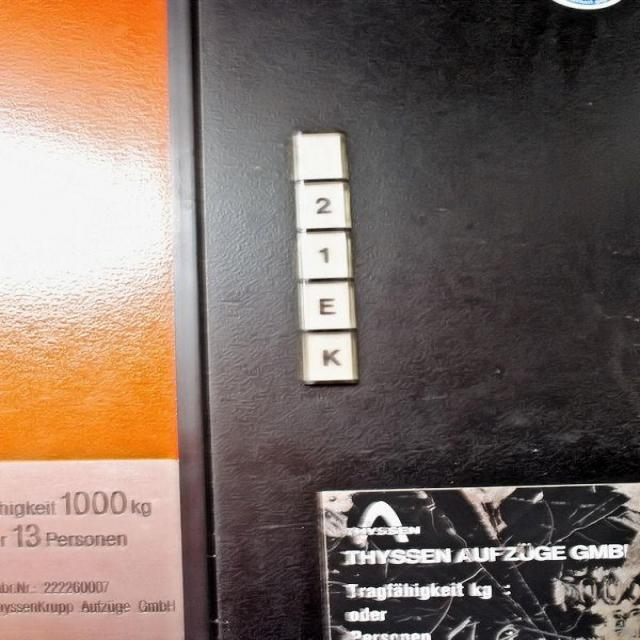1: (296, 227, 354, 281)
2: (293, 178, 352, 230)
E: (296, 277, 358, 331)
K: (301, 328, 358, 386)
empty: (291, 128, 349, 182)
